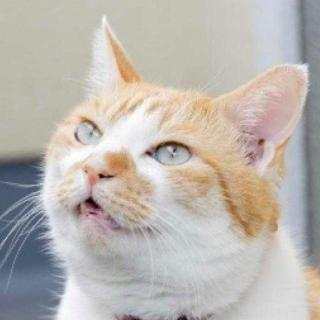cat: (33, 11, 314, 295)
nose: (79, 146, 128, 183)
